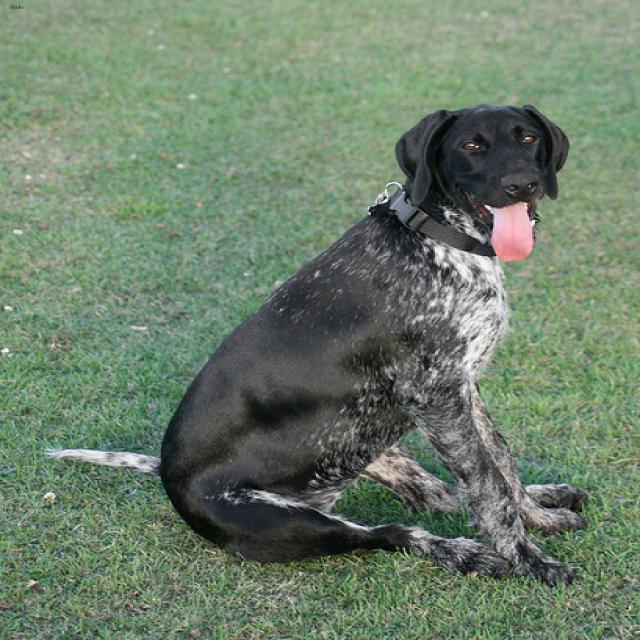dog-german_shorthaired: (36, 96, 596, 589)
